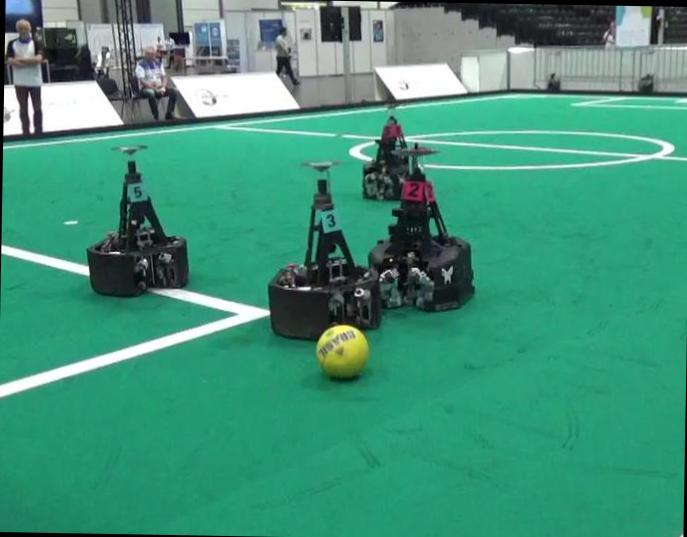ball: (315, 323, 368, 377)
person: (5, 17, 42, 135)
robot: (268, 160, 381, 339), (368, 144, 474, 310), (86, 159, 186, 294), (362, 114, 408, 198)
